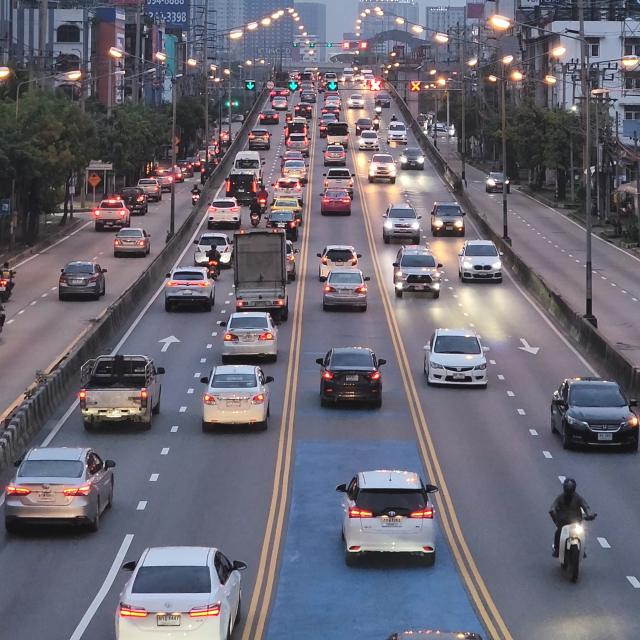Vehicle: (113, 548, 250, 640), (329, 466, 442, 568), (11, 447, 117, 537), (75, 352, 172, 433), (547, 374, 640, 458), (228, 228, 293, 322), (200, 362, 276, 432), (216, 309, 286, 367), (428, 326, 494, 386), (162, 264, 220, 315), (389, 248, 445, 300), (55, 255, 114, 303), (457, 239, 505, 288), (322, 269, 372, 313), (382, 205, 427, 242), (429, 201, 468, 241), (110, 227, 155, 260)
